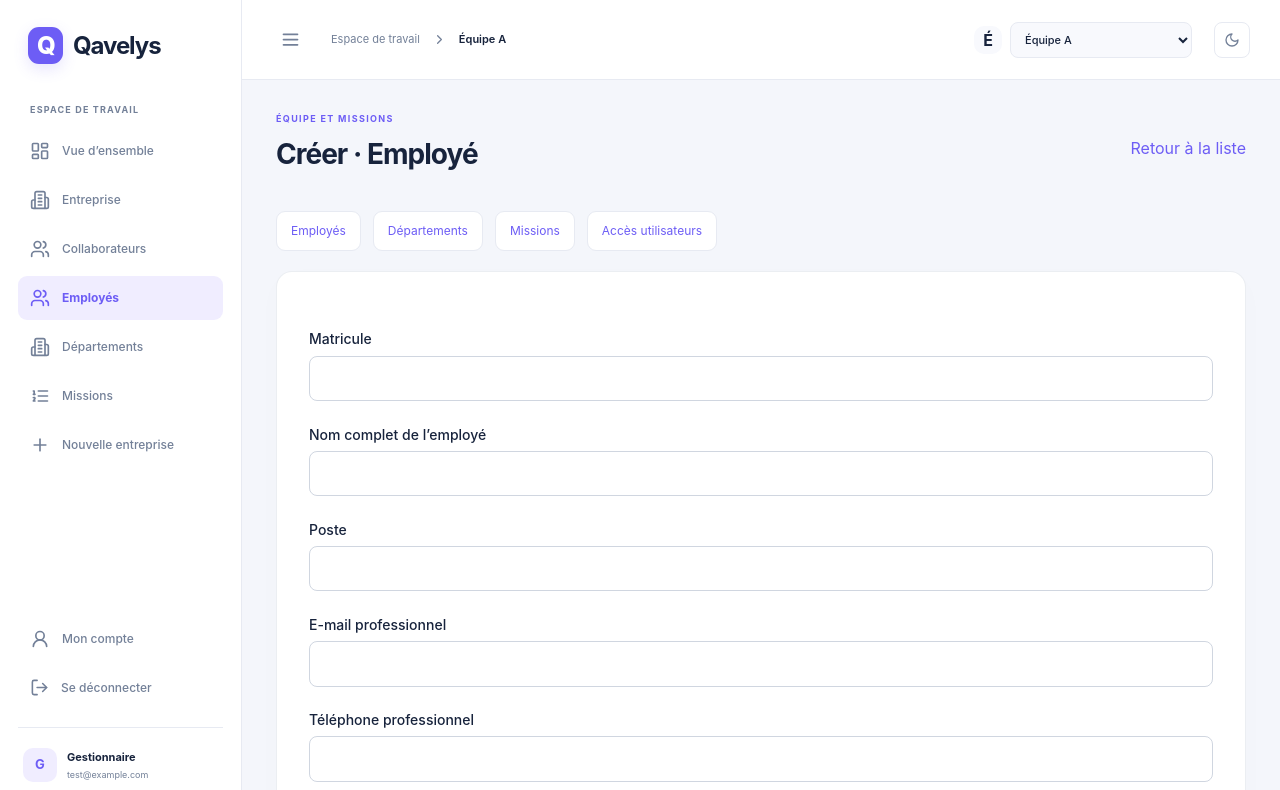
Test: lie un accès existant sans mutation des rôles ni du compte global
The image size is (1280, 790).
In the field labelled "Matricule": coordinates (761, 378) 309,356 -> 1213,401, type "LINK"
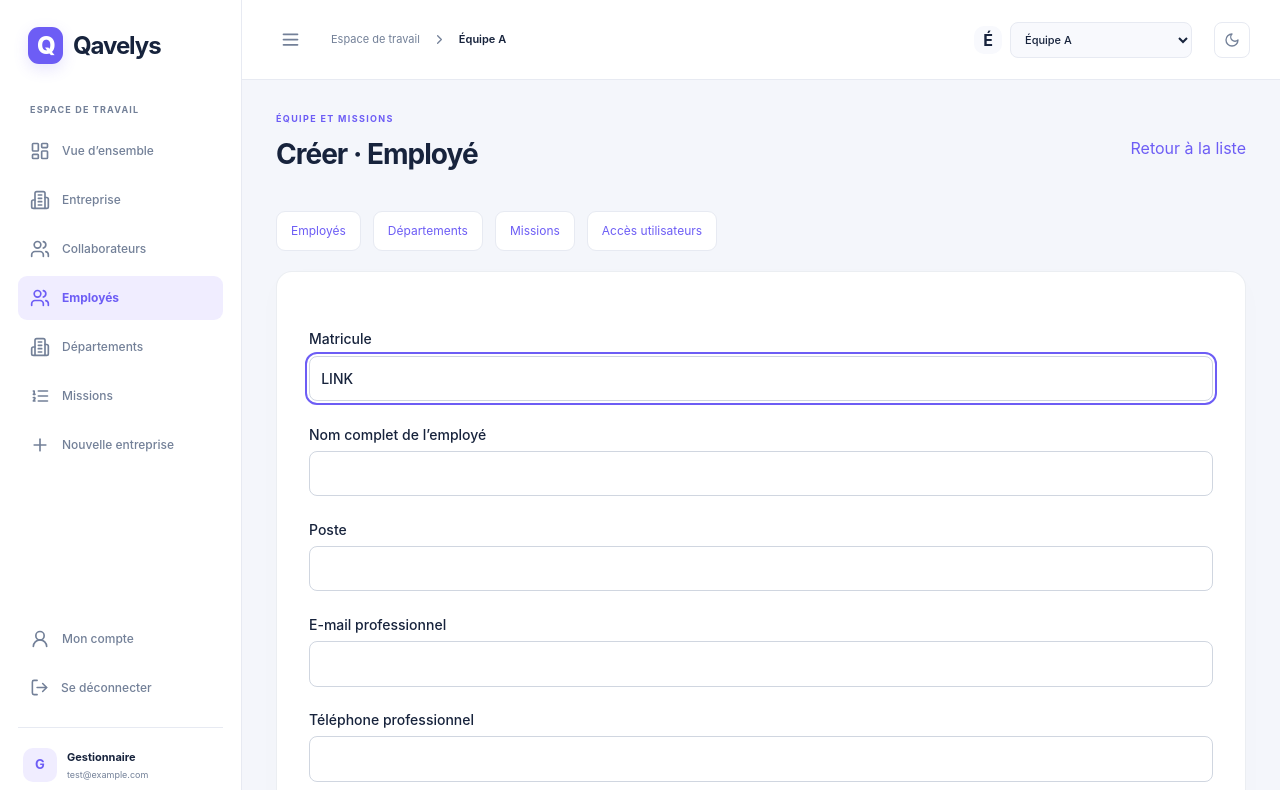
In the field labelled "Nom complet de l’employé": coordinates (761, 474) 309,451 -> 1213,496, type "Nom local"
(page scrolled)
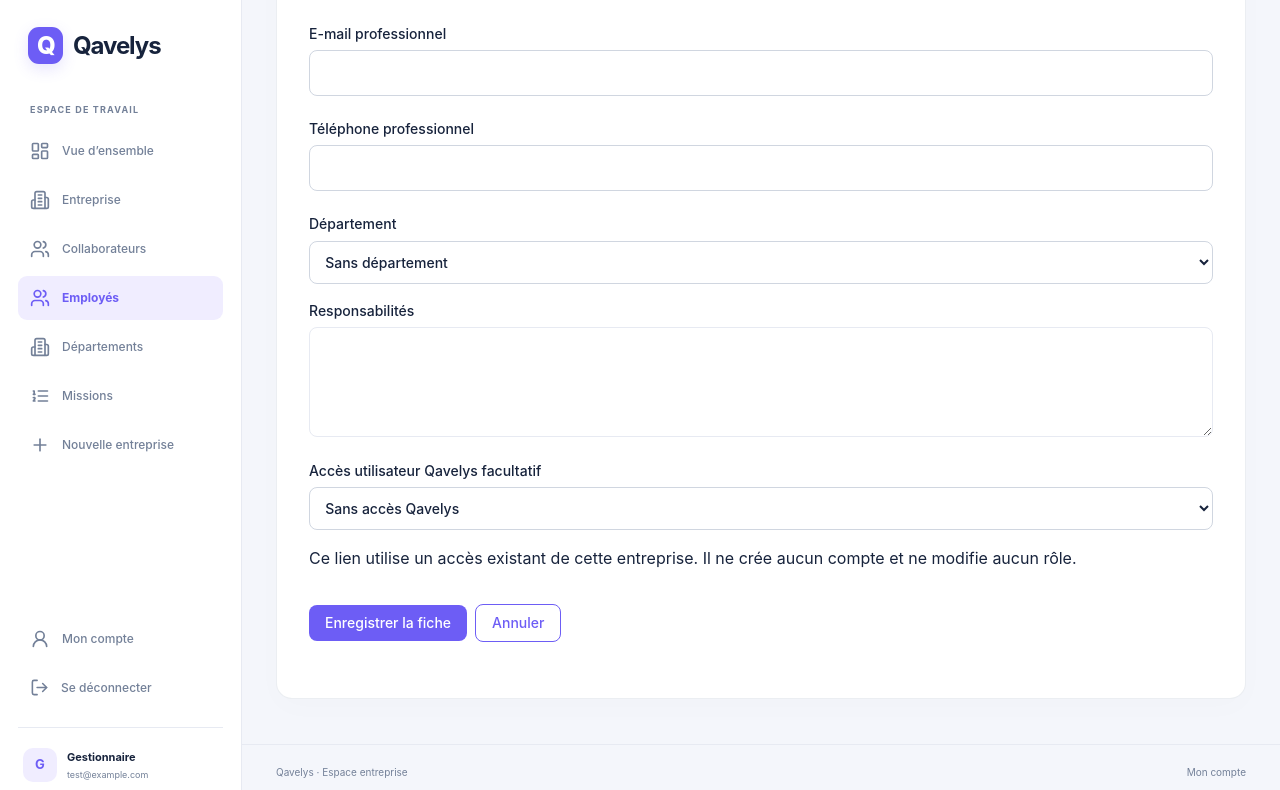
Select "Compte existant · external@example.com" in the dropdown labelled "Accès utilisateur Qavelys facultatif": coordinates (761, 509) 309,487 -> 1213,530
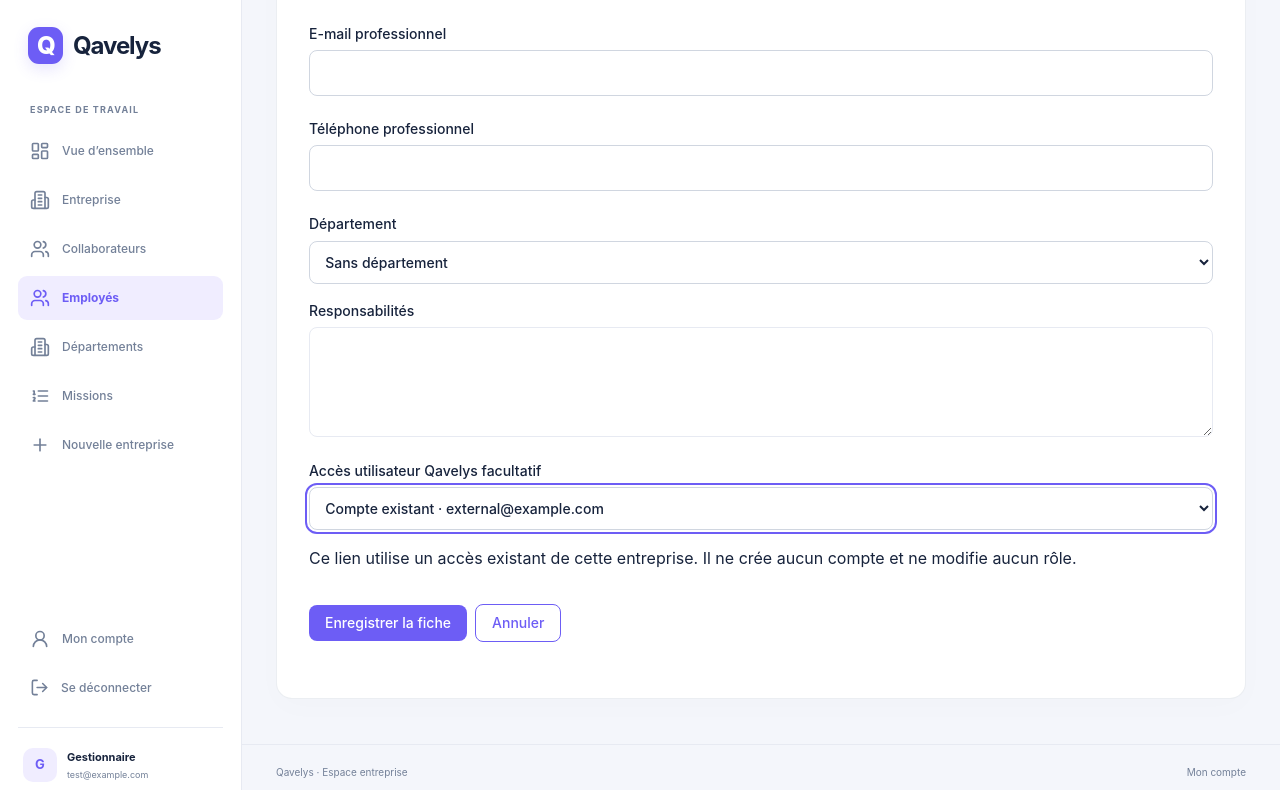
Click the button "Enregistrer la fiche": coordinates (388, 623) 309,605 -> 467,641
(page scrolled)
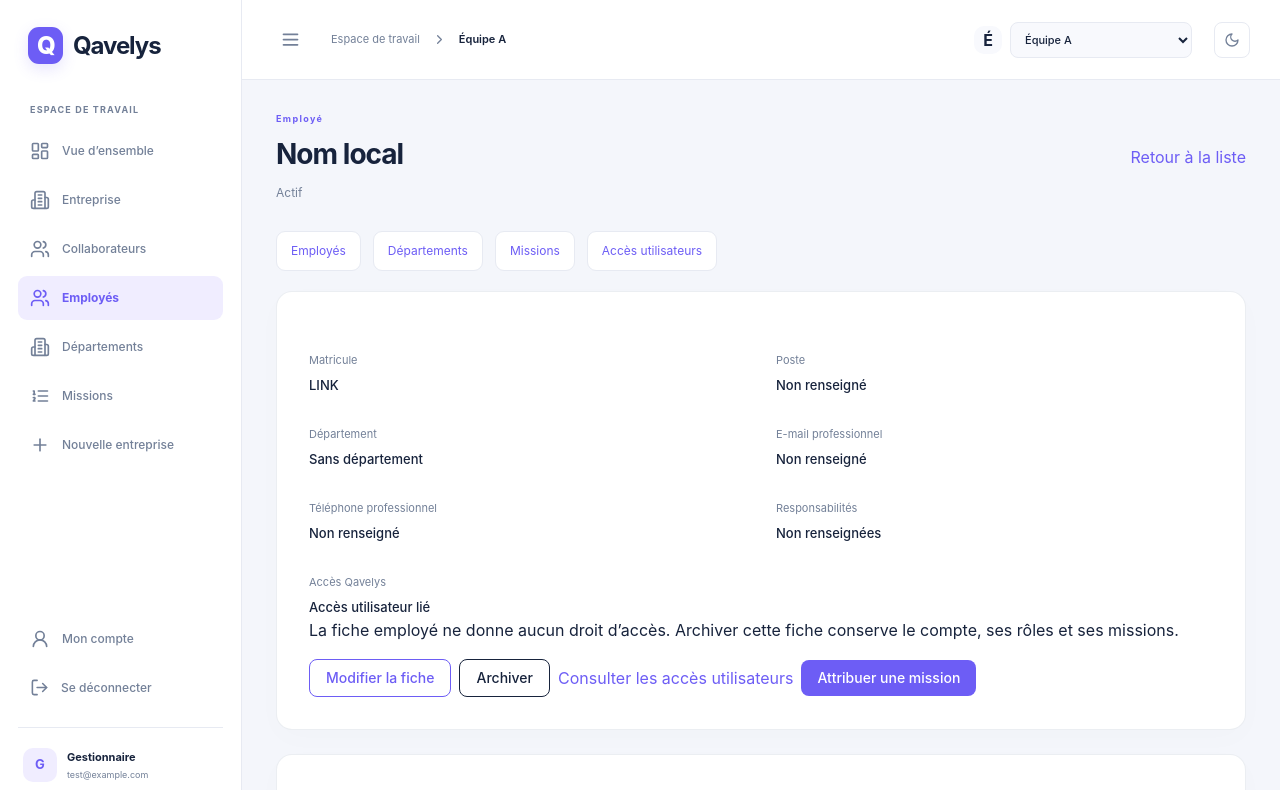
Now the heading "Nom local" is shown, box 276,133 -> 403,175
